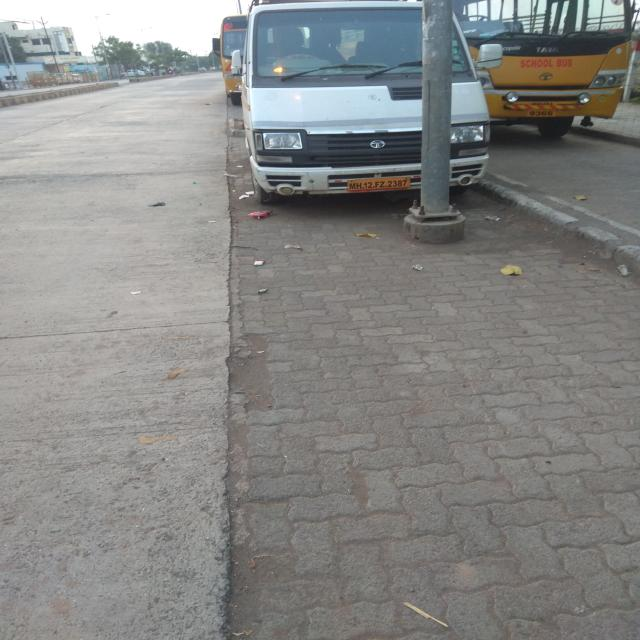Bus: (455, 0, 632, 139)
